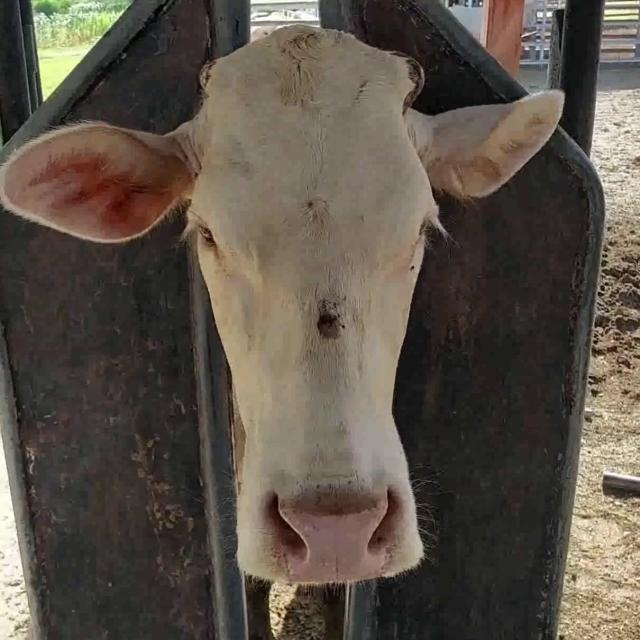cowFace: (184, 18, 440, 587)
